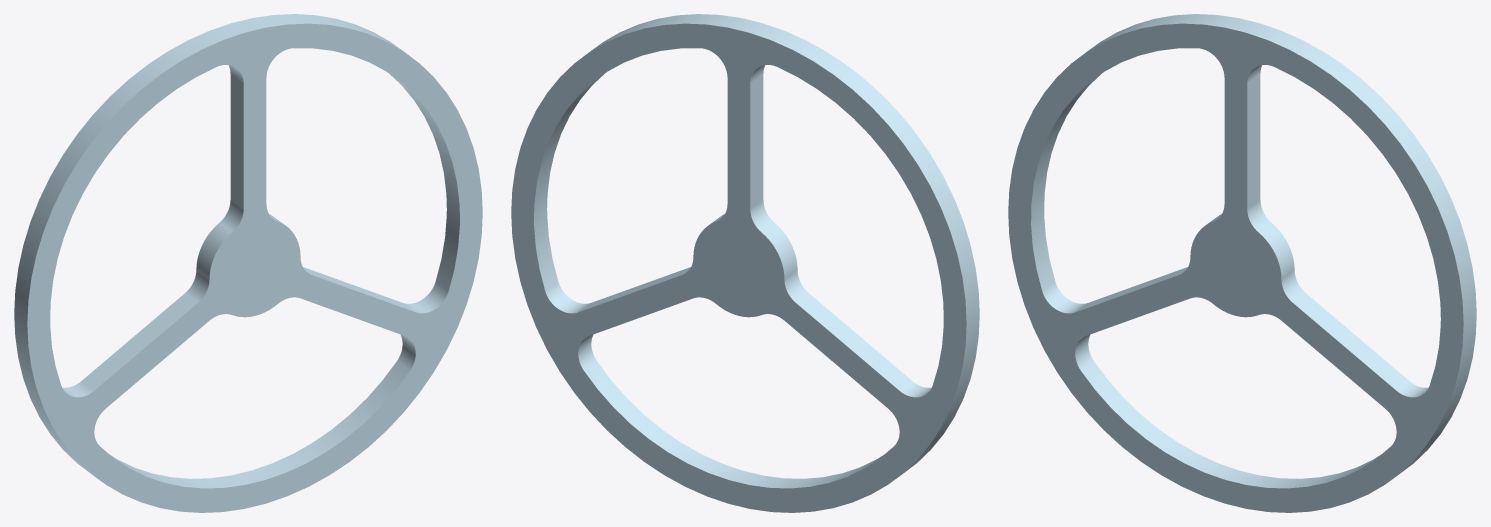
The model's file is minimalist_reaction_wheel.gltf.
3 views of the same model, side by side, from view 1: azimuth 30°, elevation 25°; view 2: azimuth 150°, elevation 25°; view 3: azimuth 330°, elevation 25° (orthographic).
Parts seen in each view (by area): view 1: minimalist_reaction_wheel; view 2: minimalist_reaction_wheel; view 3: minimalist_reaction_wheel.
Part boxes in pixels (x1,y1,x2,y2): minimalist_reaction_wheel: (14, 14, 482, 512); minimalist_reaction_wheel: (511, 14, 979, 512); minimalist_reaction_wheel: (1008, 14, 1476, 512).
Size of the model in its own units: 0.2 by 0.1998 by 0.01.
